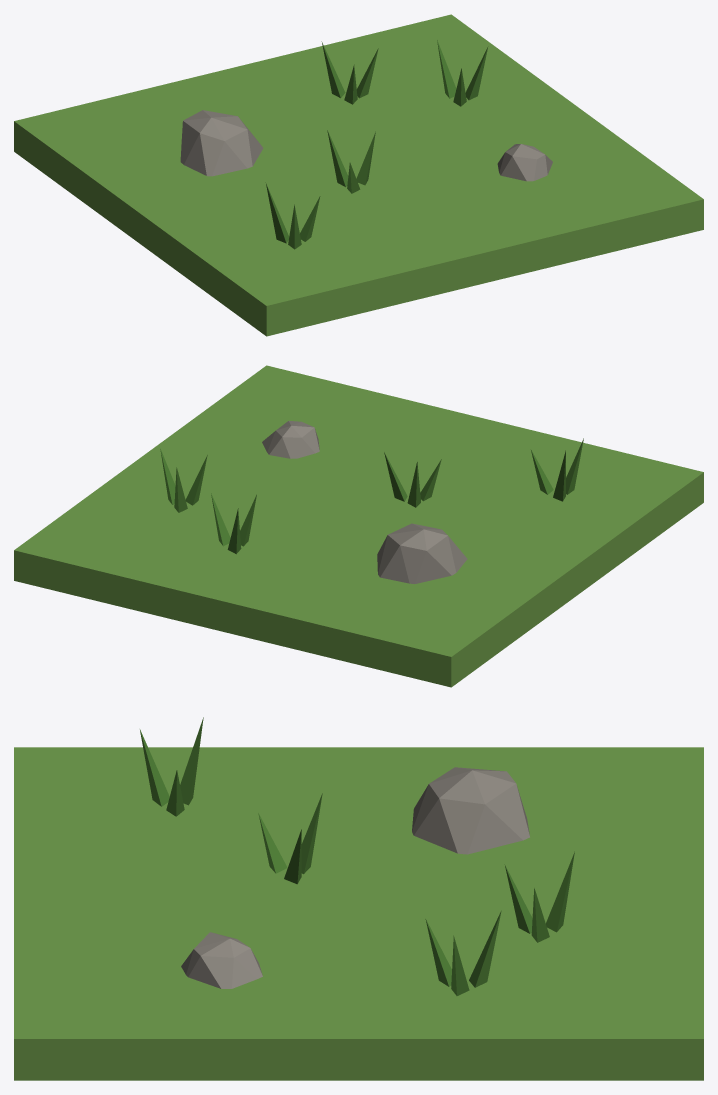
The model's file is Teren_Trawa_V2.fbx.
3 renders of one model, top to bottom at view 1: azimuth 30°, elevation 25°; view 2: azimuth 150°, elevation 25°; view 3: azimuth 270°, elevation 25°, orthographic. The views are drawn at different scales.
Visible parts, largest first — view 1: Teren_Trawa_V2; view 2: Teren_Trawa_V2; view 3: Teren_Trawa_V2.
Part boxes in pixels (<box>): Teren_Trawa_V2: <box>14,14,703,336</box>; Teren_Trawa_V2: <box>14,365,703,687</box>; Teren_Trawa_V2: <box>14,717,703,1080</box>.
Size of the model in its own units: 3 by 0.5686 by 3.
